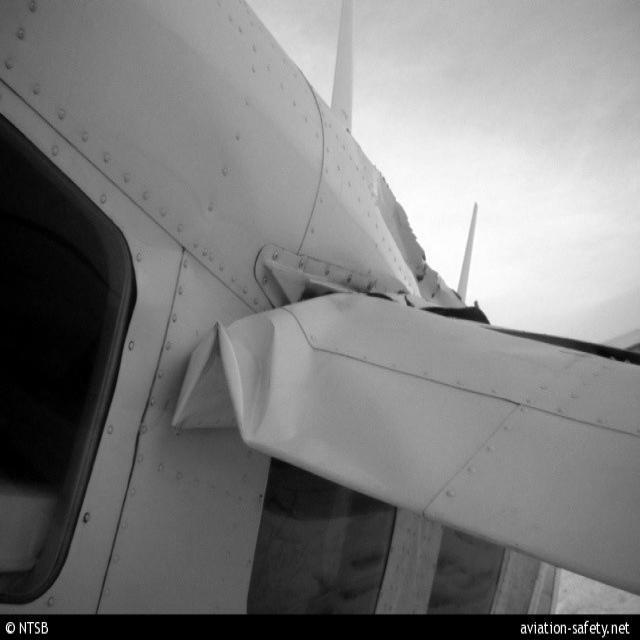dent: (167, 311, 281, 453)
